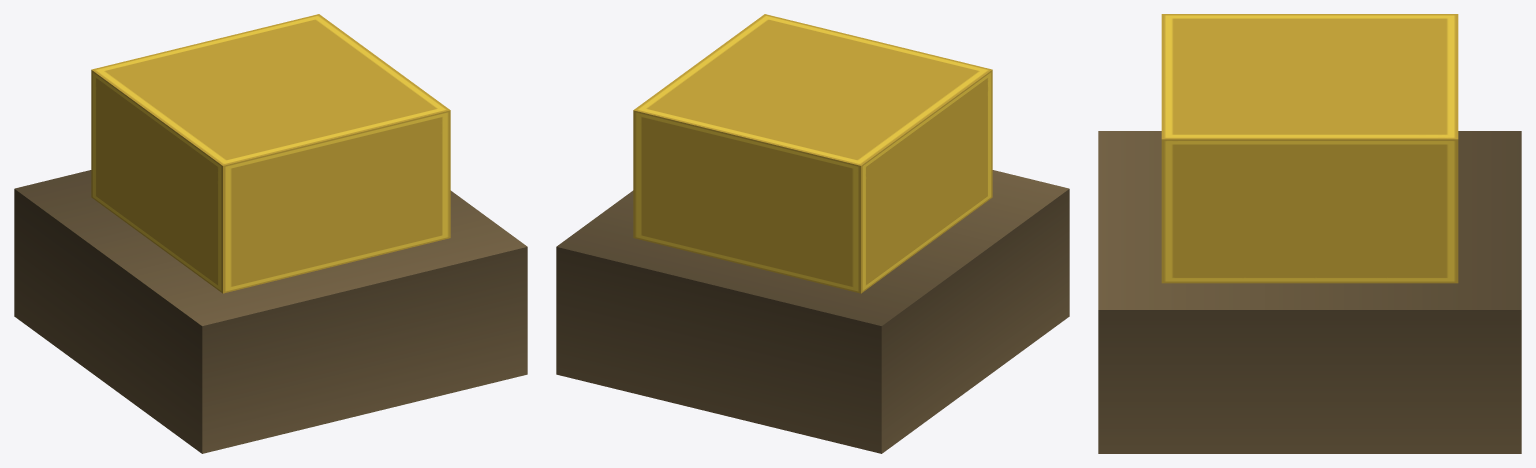
Rendered from PRP_Chandelier.glb.
3 views of the same model, side by side, from view 1: azimuth 30°, elevation 25°; view 2: azimuth 150°, elevation 25°; view 3: azimuth 270°, elevation 25° (orthographic). The views are drawn at different scales.
Visible parts, largest first — view 1: PRP_Chandelier; view 2: PRP_Chandelier; view 3: PRP_Chandelier.
Boxes of the visible parts, x1,y1,x2,y2 form: PRP_Chandelier: (14,14,527,453); PRP_Chandelier: (556,14,1069,453); PRP_Chandelier: (1098,14,1521,453).
Size of the model in its own units: 1.6 by 1.2 by 1.6.
1 material, 1 textured.
